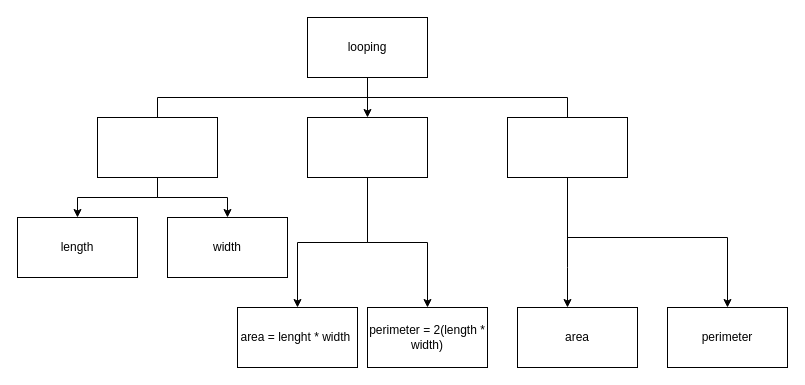
The diagram is 805 pixels wide and 385 high, and some of its shapes have lost their labels. The shapes that lost their labels are listed below. From the top down, each one's box as (x1, y1, x2, y2) in pixels, then its label:
(96, 116, 218, 178): input
(306, 116, 428, 178): process
(506, 116, 628, 178): output
